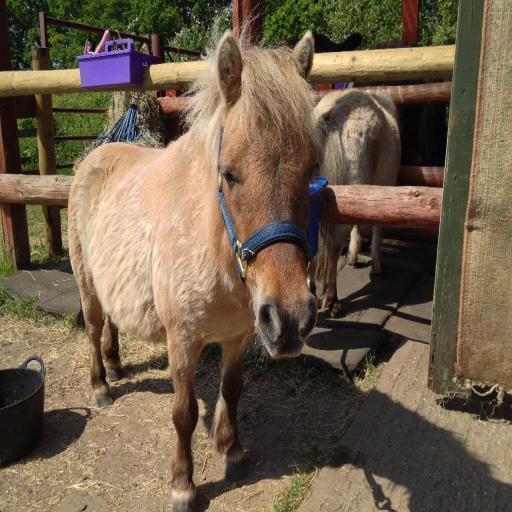horse: (67, 7, 329, 512), (306, 89, 400, 321)
